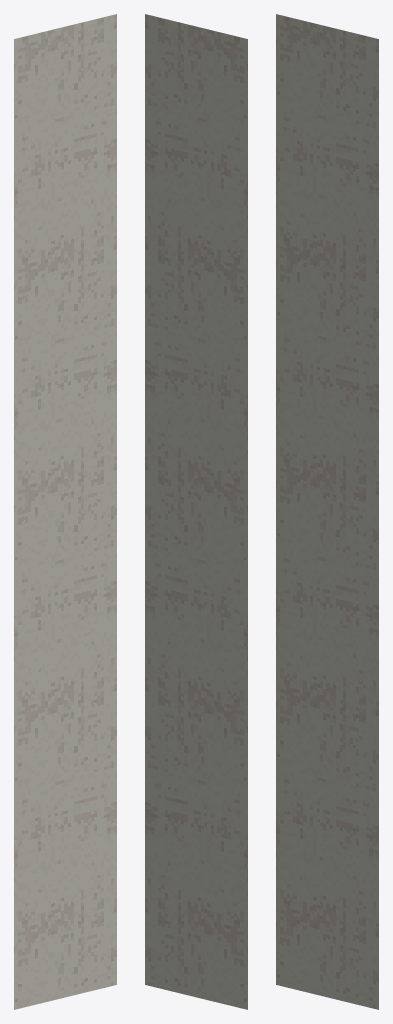
File: kd_stage_135c43_4_30_bounded_piece_1.glb
3 views of the same model, side by side, from view 1: azimuth 30°, elevation 25°; view 2: azimuth 150°, elevation 25°; view 3: azimuth 330°, elevation 25° (orthographic).
Visible parts, largest first — view 1: kd_stage_135c43_4_30_bounded_piece_1; view 2: kd_stage_135c43_4_30_bounded_piece_1; view 3: kd_stage_135c43_4_30_bounded_piece_1.
Boxes of the visible parts, x1=… form: kd_stage_135c43_4_30_bounded_piece_1: x1=14, y1=14, x2=116, y2=1009; kd_stage_135c43_4_30_bounded_piece_1: x1=145, y1=14, x2=247, y2=1009; kd_stage_135c43_4_30_bounded_piece_1: x1=276, y1=14, x2=378, y2=1009.
Bounding box in the file's own units: 0.189 × 1.7 × 0.
1 material, 1 textured.
